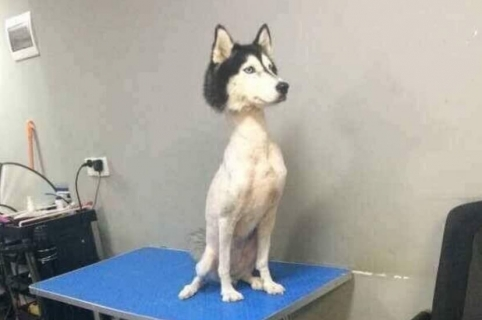husky: (194, 12, 299, 116)
